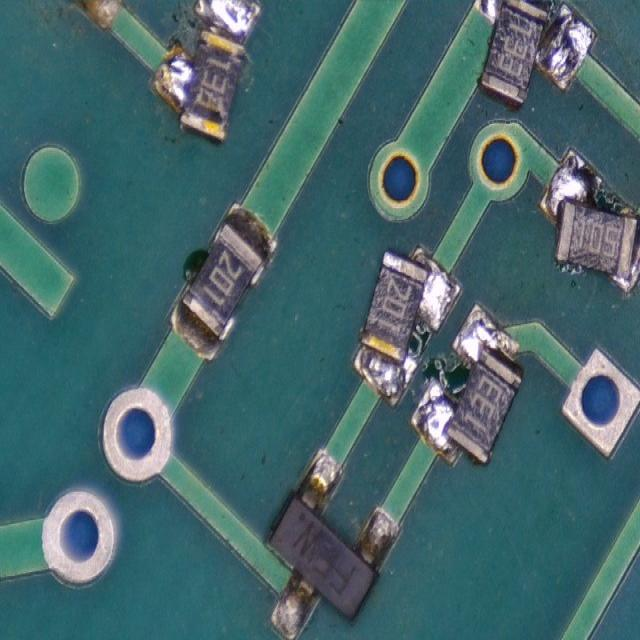Incorrect_installation: (409, 303, 523, 468), (351, 245, 463, 409), (149, 0, 264, 146), (538, 147, 640, 294), (472, 0, 599, 107)
